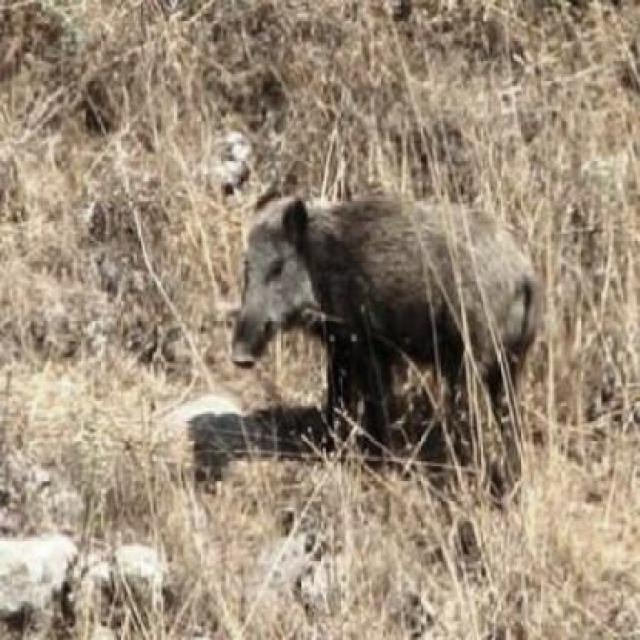Boar: (194, 157, 577, 454)
